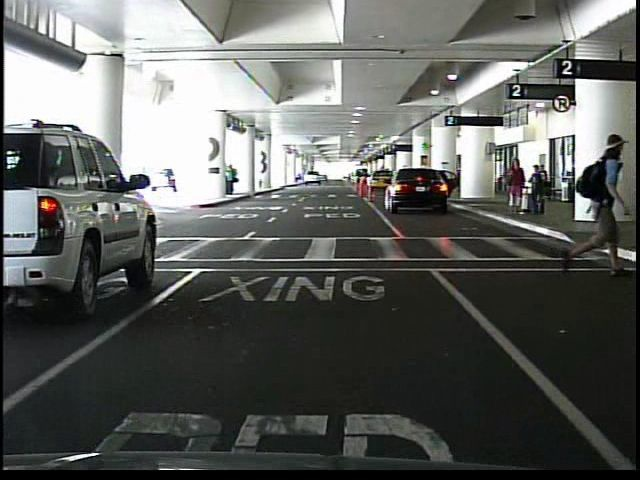person: (549, 135, 632, 271), (501, 157, 522, 211), (526, 163, 546, 215), (226, 164, 237, 196), (538, 164, 548, 199)
